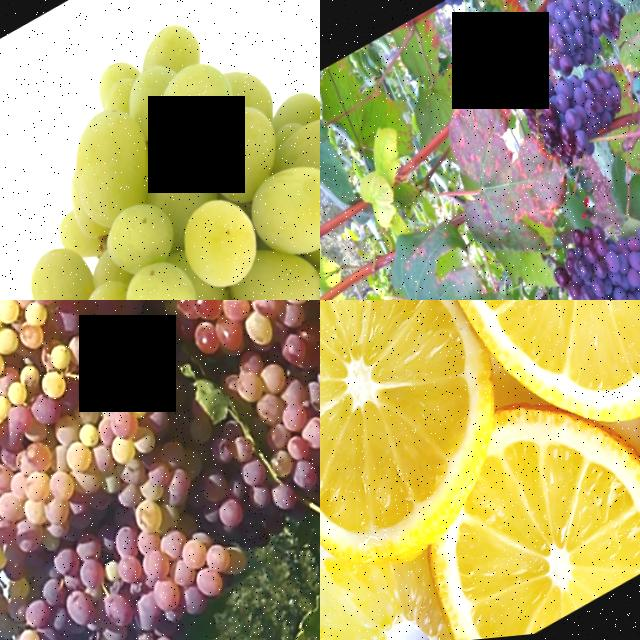grapes: (0, 0, 320, 300), (0, 361, 204, 601), (7, 485, 261, 640), (0, 300, 126, 487), (150, 300, 320, 399), (511, 59, 640, 183), (539, 184, 640, 300), (527, 0, 639, 83)
lemon: (320, 300, 544, 601), (406, 415, 640, 640), (385, 300, 640, 464)
